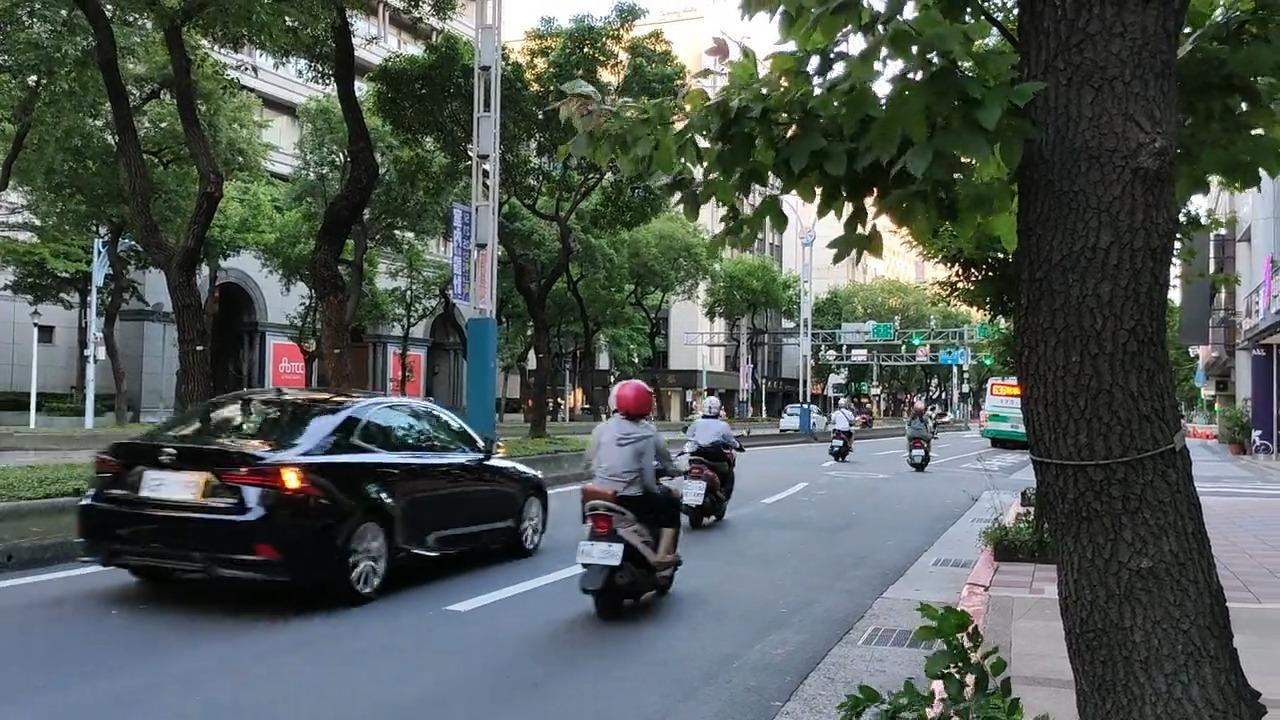driver: (574, 379, 699, 620), (680, 395, 751, 529)
helmet: (617, 379, 654, 423), (701, 396, 721, 418)
